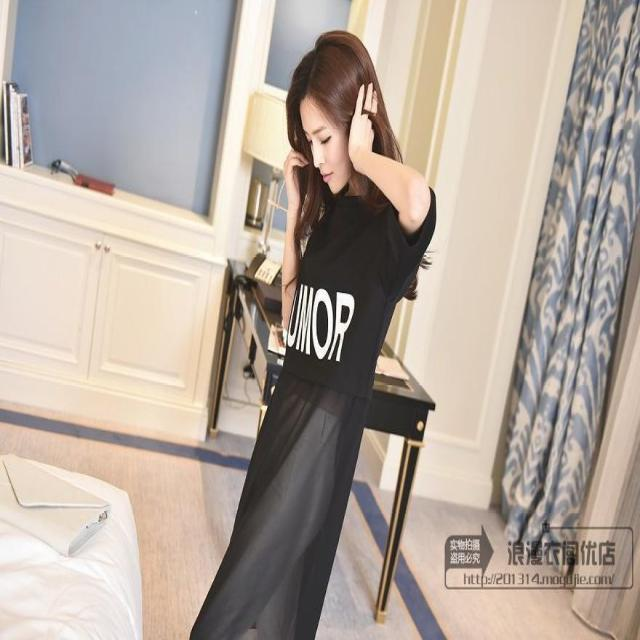short-sleeve-top: (283, 157, 449, 450)
